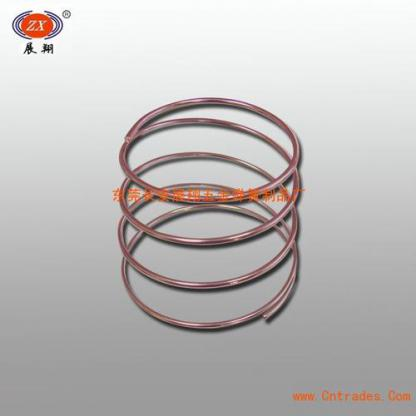FOD: (114, 89, 311, 339)
